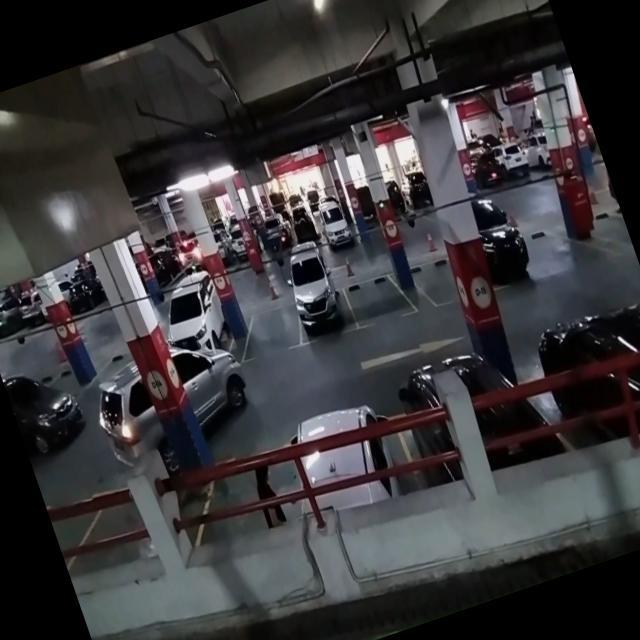empty: (341, 260, 416, 332), (238, 297, 308, 363), (406, 249, 464, 315)
occupied: (282, 257, 357, 346)
